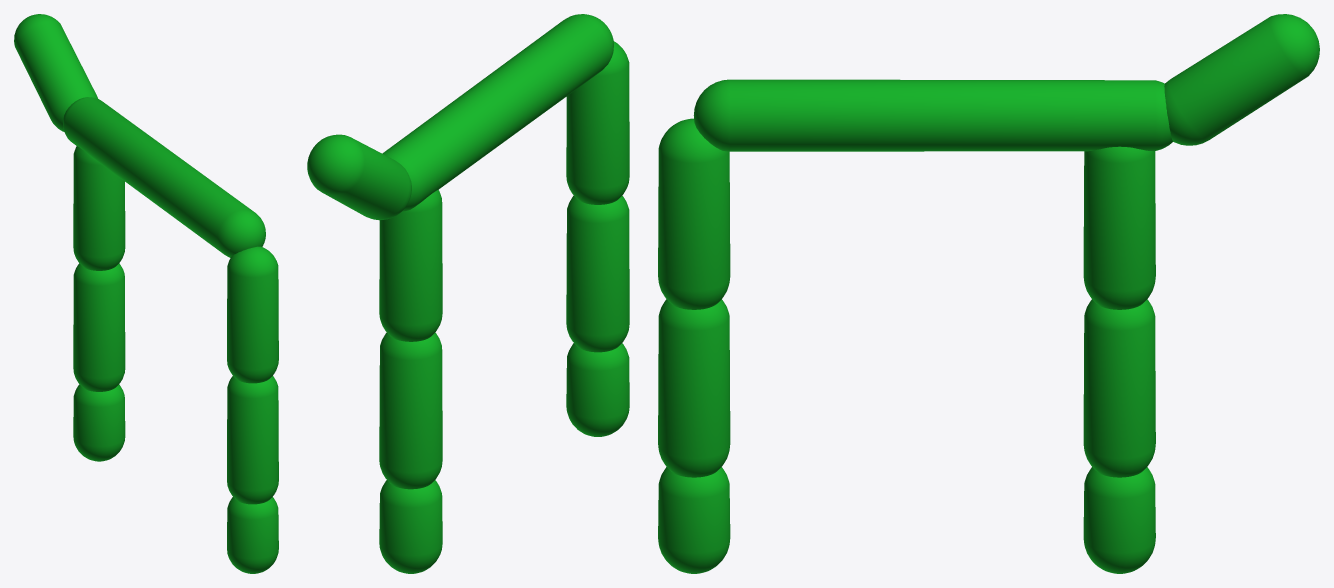
The model's file is halfcheetah.fbx.
The picture shows the model from 3 angles, left to right: view 1: azimuth 30°, elevation 25°; view 2: azimuth 150°, elevation 25°; view 3: azimuth 270°, elevation 25°; orthographic projection. The views are drawn at different scales.
Parts seen in each view (by area): view 1: Body, BackThigh, FrontShin, BackShin, FrontThing, Head, FrontFoot, BackFoot; view 2: Body, FrontShin, BackShin, FrontThing, BackThigh, Head, FrontFoot, BackFoot; view 3: Body, BackThigh, FrontShin, BackShin, Head, FrontThing, FrontFoot, BackFoot.
Part boxes in pixels (left/top/right/bottom): Body: left=63, top=97, right=265, bottom=257; BackThigh: left=227, top=246, right=278, bottom=383; FrontShin: left=73, top=263, right=125, bottom=391; BackShin: left=227, top=376, right=278, bottom=504; FrontThing: left=73, top=146, right=125, bottom=270; Head: left=14, top=14, right=97, bottom=131; FrontFoot: left=73, top=384, right=125, bottom=461; BackFoot: left=227, top=497, right=278, bottom=573; Body: left=382, top=14, right=613, bottom=211; FrontShin: left=379, top=332, right=442, bottom=489; BackShin: left=566, top=195, right=629, bottom=352; FrontThing: left=379, top=190, right=442, bottom=341; BackThigh: left=566, top=41, right=629, bottom=204; Head: left=307, top=134, right=411, bottom=220; FrontFoot: left=379, top=480, right=442, bottom=573; BackFoot: left=566, top=343, right=629, bottom=436; Body: left=693, top=79, right=1172, bottom=151; BackThigh: left=658, top=118, right=730, bottom=309; FrontShin: left=1083, top=299, right=1155, bottom=477; BackShin: left=658, top=299, right=730, bottom=477; Head: left=1164, top=14, right=1319, bottom=145; FrontThing: left=1083, top=146, right=1155, bottom=309; FrontFoot: left=1083, top=467, right=1155, bottom=573; BackFoot: left=658, top=467, right=730, bottom=573.
Bounding box in the file's own units: 2 × 16.88 × 18.3.
